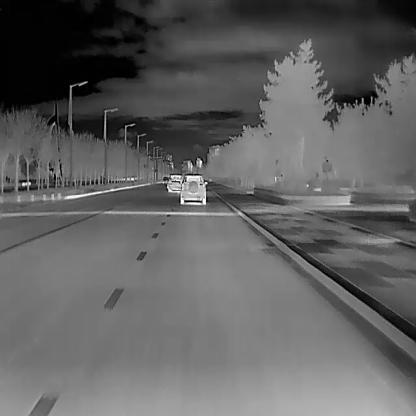car: (179, 173, 207, 204), (167, 172, 182, 193), (162, 175, 168, 183)
